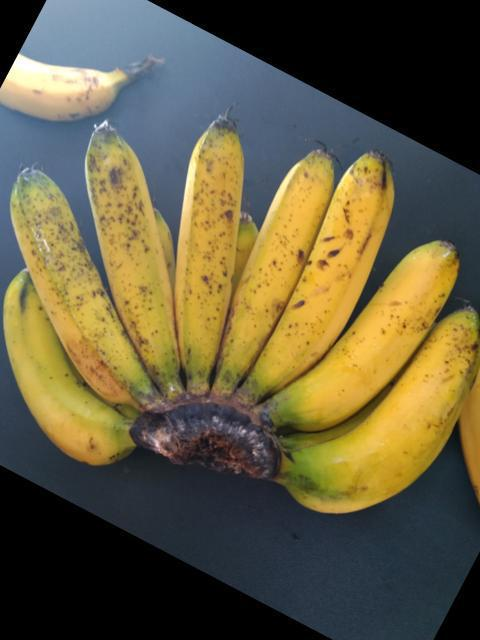ripe: (234, 144, 392, 413), (274, 308, 471, 518), (208, 142, 345, 393), (8, 156, 145, 402), (0, 255, 118, 480), (81, 115, 174, 374), (167, 108, 247, 386), (0, 7, 145, 117)
